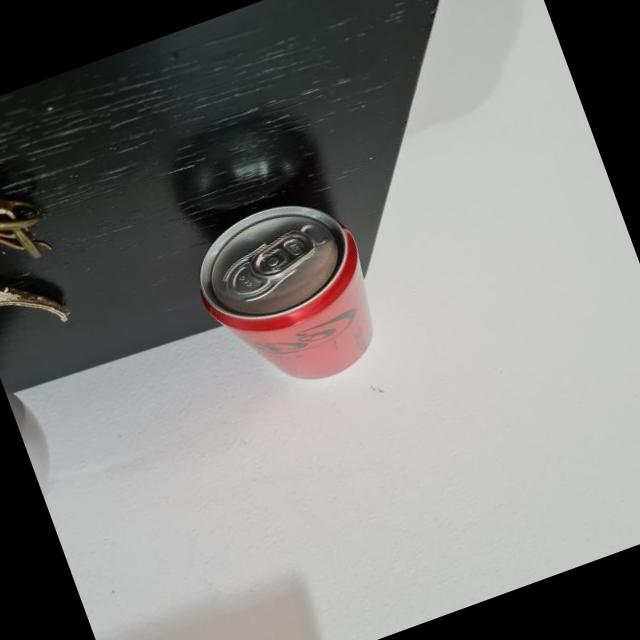Kaleng: (178, 182, 398, 412)
